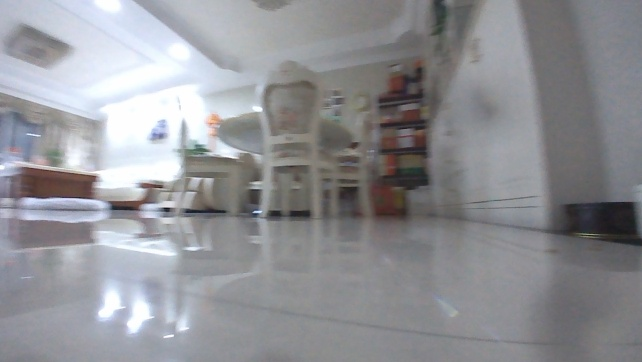dining_table: (166, 59, 375, 221)
sofa1: (92, 162, 206, 210)
tea_table1: (0, 157, 101, 206)
